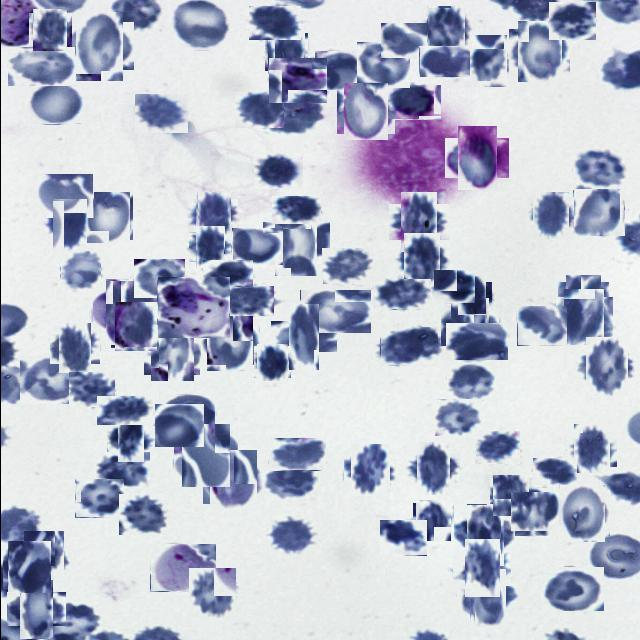difficult: (99, 285, 152, 339)
red blood cell: (70, 17, 128, 75), (168, 0, 230, 51), (177, 428, 233, 484), (299, 290, 370, 334), (19, 356, 84, 404), (268, 216, 323, 270), (538, 567, 603, 611), (512, 25, 565, 78), (203, 316, 256, 368), (554, 486, 606, 538), (450, 132, 502, 184), (572, 186, 624, 237), (340, 86, 391, 138), (7, 47, 74, 86), (580, 341, 631, 392), (459, 510, 509, 560), (146, 328, 196, 378), (38, 174, 94, 218), (278, 312, 328, 361), (356, 42, 409, 88), (462, 575, 511, 624), (187, 569, 236, 618), (560, 292, 608, 342), (266, 96, 326, 136), (82, 194, 130, 242), (394, 198, 442, 246), (446, 303, 494, 351), (4, 542, 52, 590), (445, 323, 507, 360), (571, 148, 625, 190), (379, 327, 437, 366), (26, 85, 82, 125), (160, 395, 216, 435), (458, 544, 504, 592), (12, 586, 59, 632), (154, 404, 203, 447), (112, 304, 158, 349), (134, 94, 187, 133), (347, 448, 392, 493), (465, 39, 510, 84), (516, 306, 566, 346), (262, 464, 316, 501), (133, 259, 184, 298), (21, 534, 66, 578), (399, 238, 444, 282), (118, 494, 166, 535), (95, 452, 149, 488), (231, 228, 282, 266), (560, 278, 604, 322), (512, 490, 556, 534), (267, 438, 325, 471), (74, 479, 123, 518), (410, 446, 454, 489), (528, 194, 572, 237), (386, 85, 440, 120), (321, 248, 372, 285), (418, 46, 476, 78), (48, 202, 90, 246), (266, 516, 314, 554), (192, 195, 234, 238), (570, 428, 613, 470), (252, 153, 302, 189), (313, 51, 358, 91), (548, 2, 595, 40), (446, 364, 494, 401), (248, 6, 300, 40), (373, 279, 430, 310), (53, 326, 95, 368), (234, 92, 283, 128), (434, 399, 481, 436), (378, 520, 426, 556), (425, 7, 466, 49), (59, 251, 100, 292), (96, 396, 152, 425), (68, 372, 114, 407), (380, 23, 426, 58), (266, 32, 306, 72), (490, 476, 530, 516), (222, 286, 273, 316), (413, 501, 452, 540), (474, 431, 519, 464), (31, 10, 68, 50), (432, 270, 474, 304), (271, 196, 320, 224), (112, 420, 148, 458), (202, 260, 252, 287), (191, 229, 227, 265), (254, 344, 288, 380), (532, 458, 576, 485), (454, 279, 488, 313)
ring: (149, 544, 215, 592), (206, 453, 260, 508)
trophozoite: (156, 277, 229, 339), (267, 58, 326, 104)
